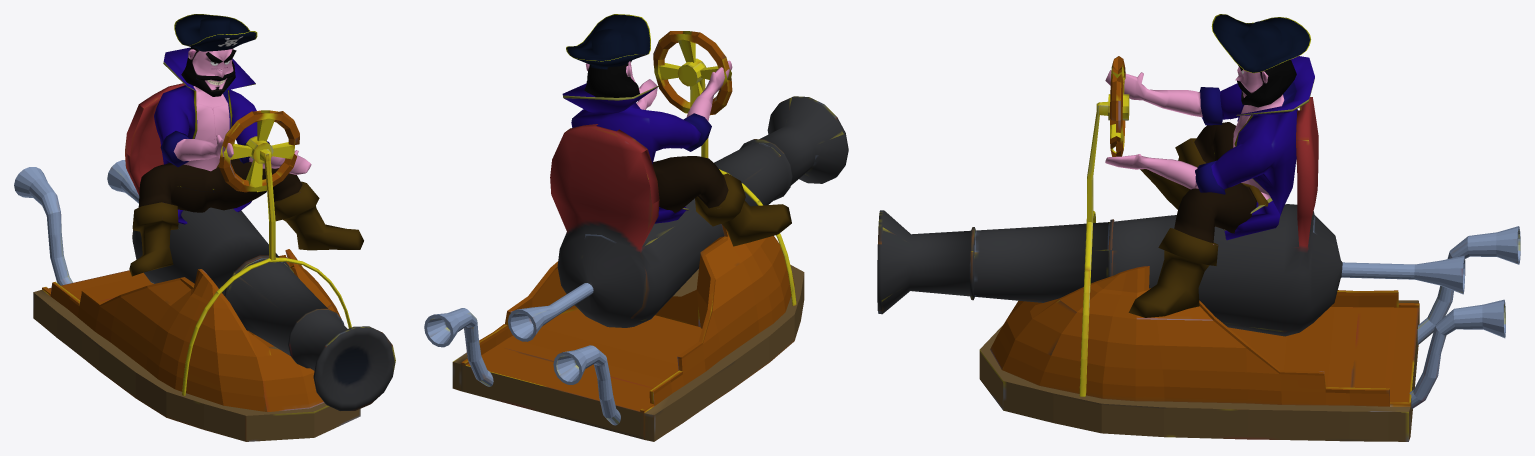
File: pirataGiroDER_000329.obj
3 views of the same model, side by side, from view 1: azimuth 30°, elevation 25°; view 2: azimuth 150°, elevation 25°; view 3: azimuth 270°, elevation 25° (orthographic). The views are drawn at different scales.
Parts seen in each view (by area): view 1: carro_pirata, Pirata_PirataH; view 2: carro_pirata, Pirata_PirataH; view 3: carro_pirata, Pirata_PirataH.
Part boxes in pixels (<box>): carro_pirata: <box>14,83,395,441</box>; Pirata_PirataH: <box>129,14,363,276</box>; carro_pirata: <box>424,31,848,441</box>; Pirata_PirataH: <box>562,14,791,246</box>; carro_pirata: <box>877,56,1520,441</box>; Pirata_PirataH: <box>1105,14,1314,317</box>.
Bounding box in the file's own units: 5.66 × 7.68 × 12.1.
Materials: 2 (2 with a texture image).
